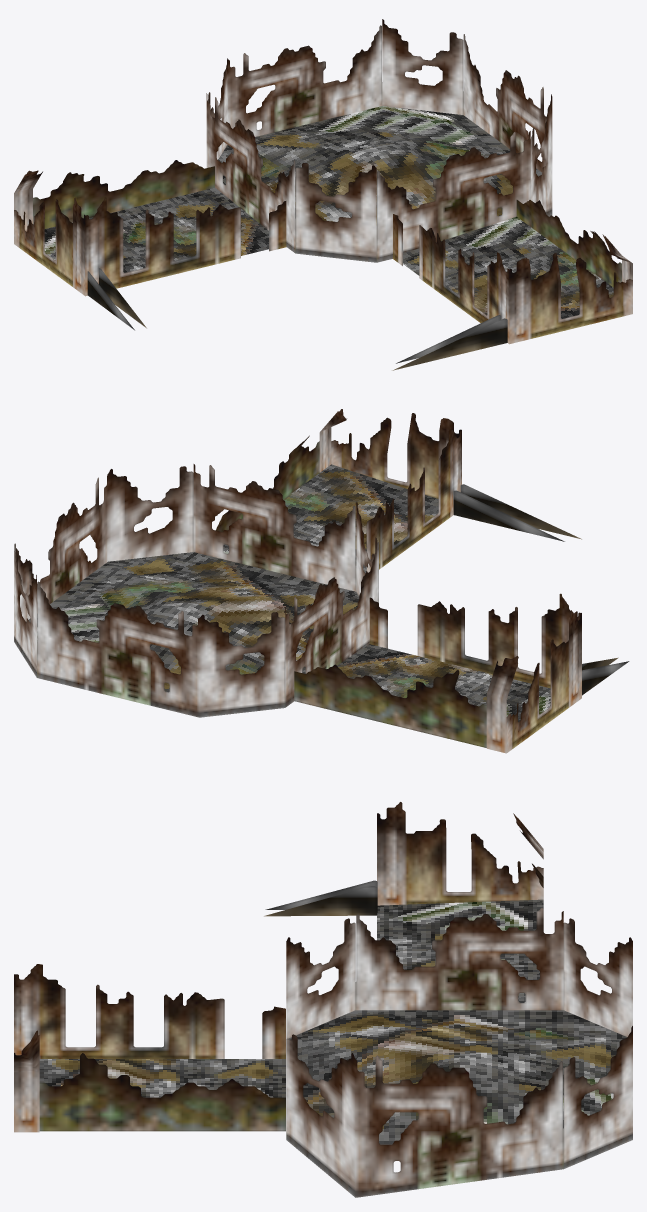
The model's file is l_spotlightcontrol_dam.glb.
The picture shows the model from 3 angles, top to bottom: view 1: azimuth 30°, elevation 25°; view 2: azimuth 150°, elevation 25°; view 3: azimuth 270°, elevation 25°; orthographic projection. The views are drawn at different scales.
Visible parts, largest first — view 1: L_SpotlightControlDAM; view 2: L_SpotlightControlDAM; view 3: L_SpotlightControlDAM.
Boxes of the visible parts, x1,y1,x2,y2 form: L_SpotlightControlDAM: (14,19,632,370); L_SpotlightControlDAM: (14,409,629,753); L_SpotlightControlDAM: (14,802,632,1197).
Size of the model in its own units: 17.83 by 4.91 by 17.85.
2 materials, 2 textured.
